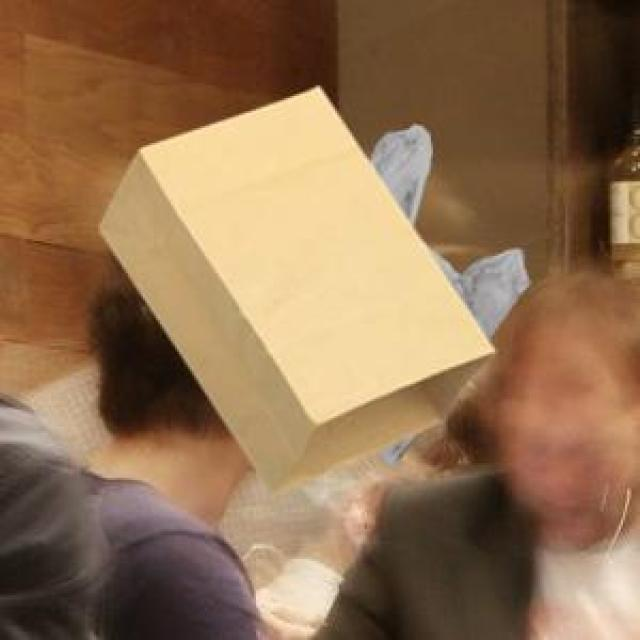paper: (96, 83, 491, 489)
